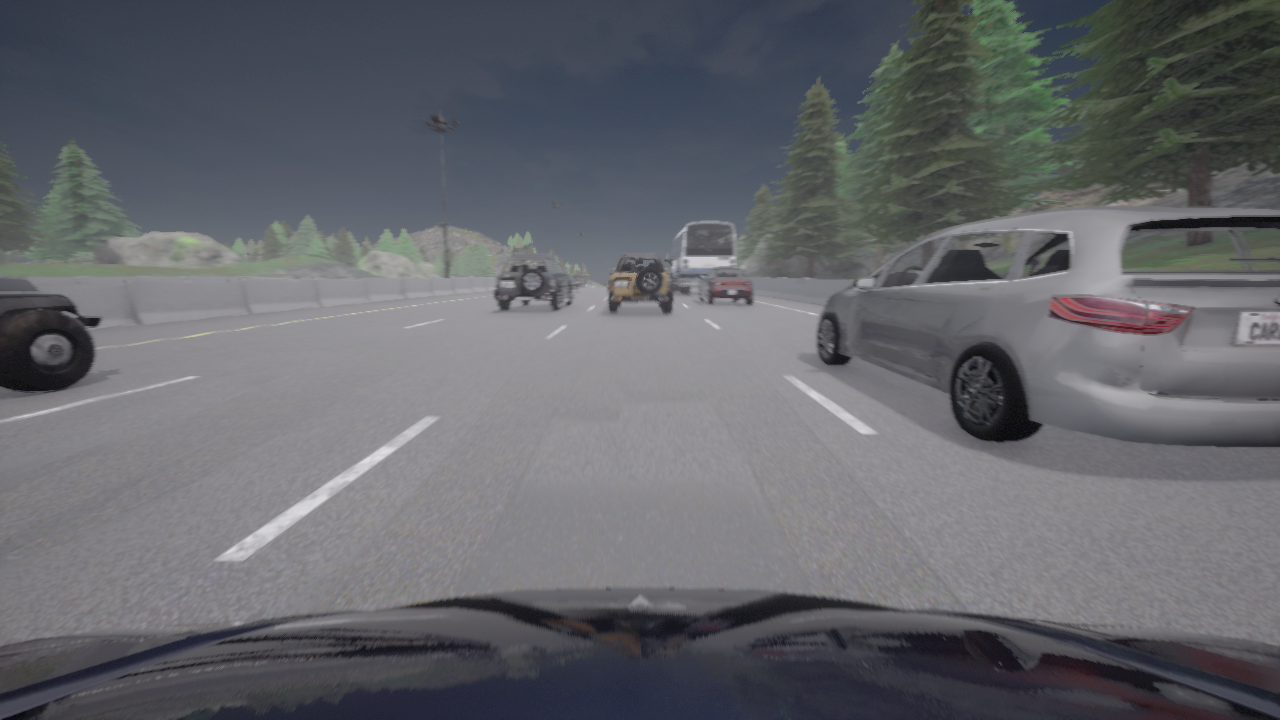cyclist: (0, 588, 1279, 719), (817, 207, 1279, 447), (665, 221, 735, 293), (494, 254, 574, 311), (608, 253, 672, 313), (698, 268, 752, 304), (575, 277, 582, 292)
